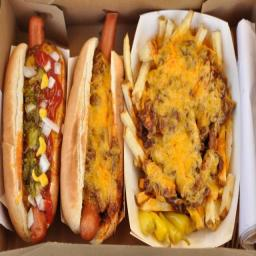hotdog: (121, 0, 240, 256), (60, 1, 126, 253), (0, 6, 67, 247)
